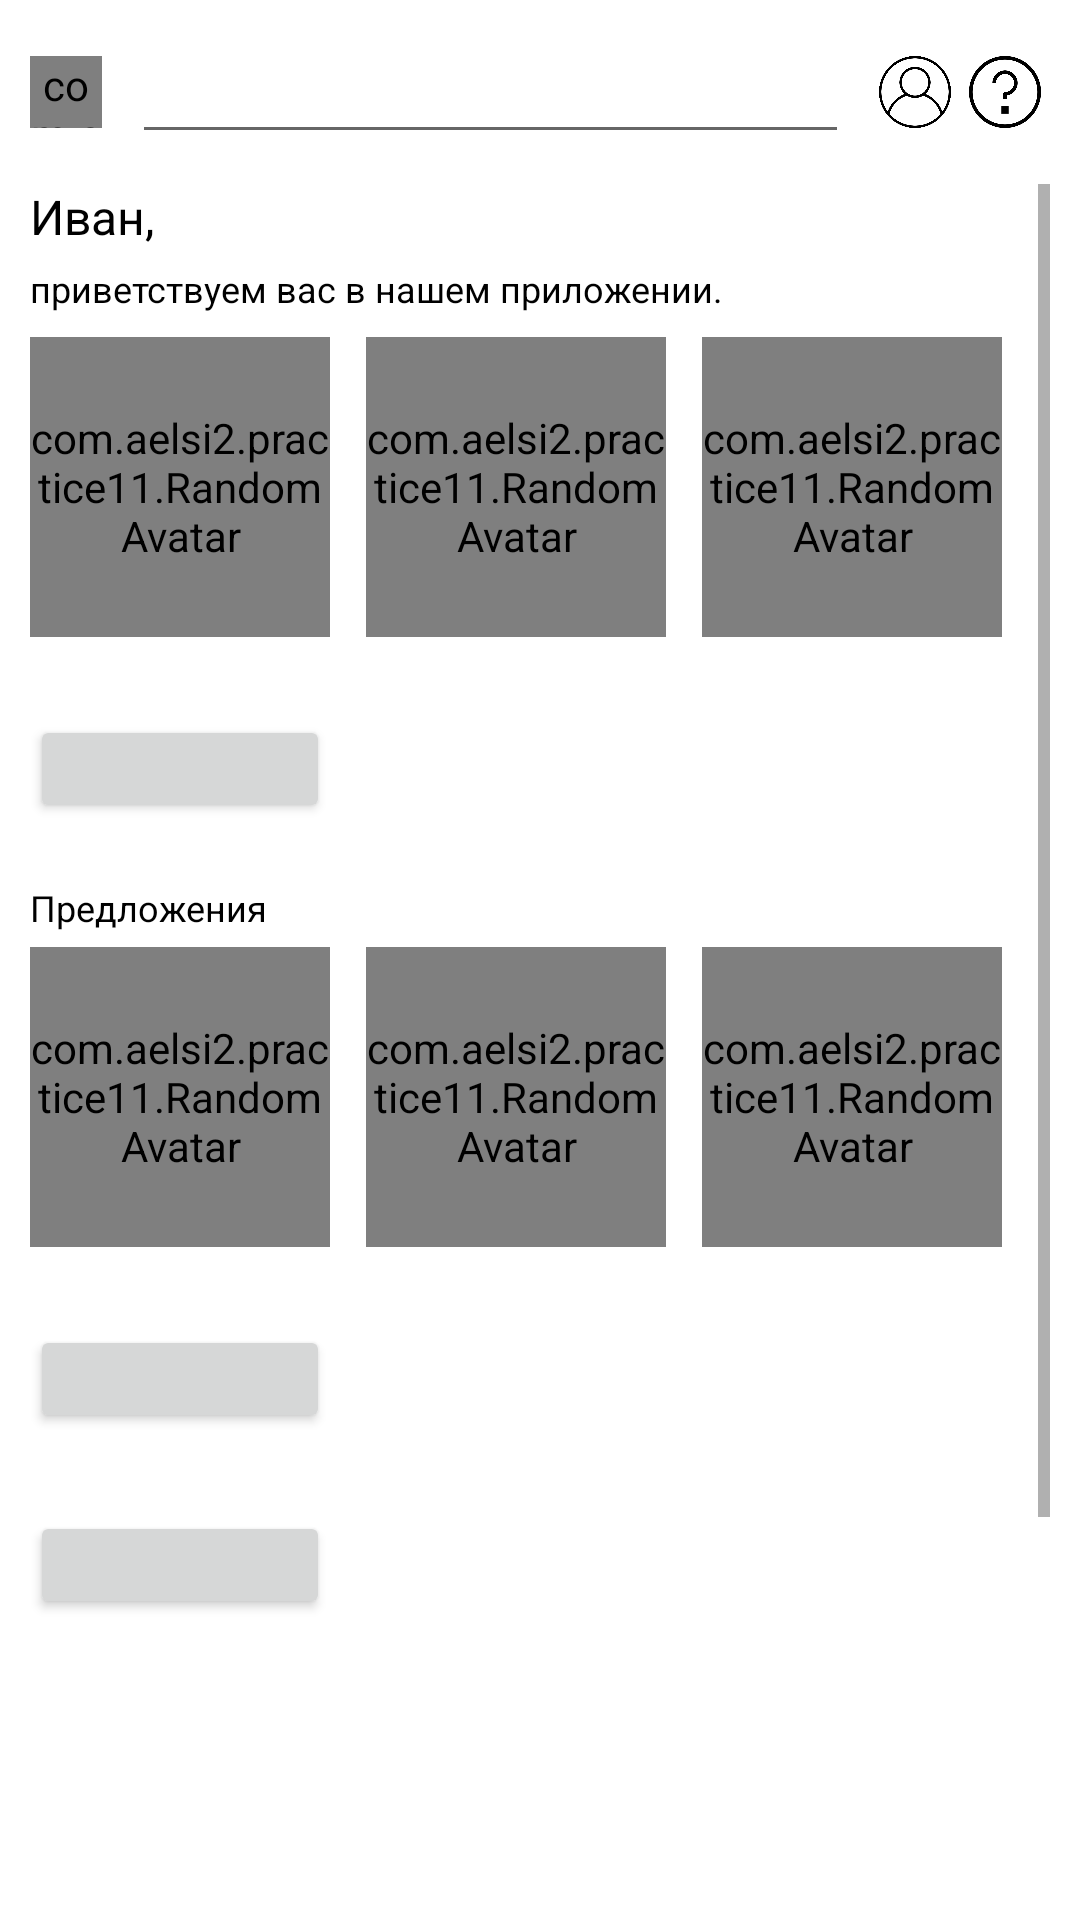

Screen size 1080px×1920px. Icon name, then its center in pixels as point (x, y):
help: point (1005, 92)
user: point (915, 92)
